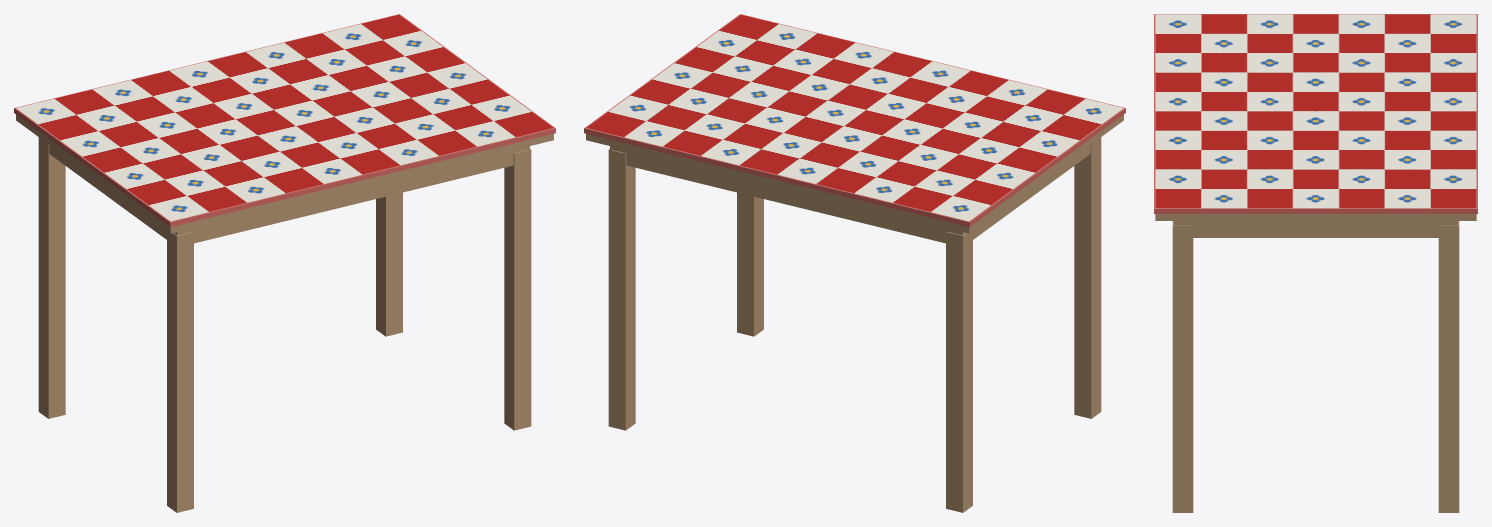
The model's file is kitchen_table.glb.
3 renders of one model, left to right at view 1: azimuth 30°, elevation 25°; view 2: azimuth 150°, elevation 25°; view 3: azimuth 270°, elevation 25°, orthographic. The views are drawn at different scales.
Visible parts, largest first — view 1: kitchen_table; view 2: kitchen_table; view 3: kitchen_table.
Part boxes in pixels (x1=…): kitchen_table: x1=14, y1=14, x2=555, y2=512; kitchen_table: x1=584, y1=14, x2=1125, y2=512; kitchen_table: x1=1154, y1=14, x2=1477, y2=512.
Bounding box in the file's own units: 1.01 × 0.7505 × 0.706.
Materials: 3 (1 with a texture image).
